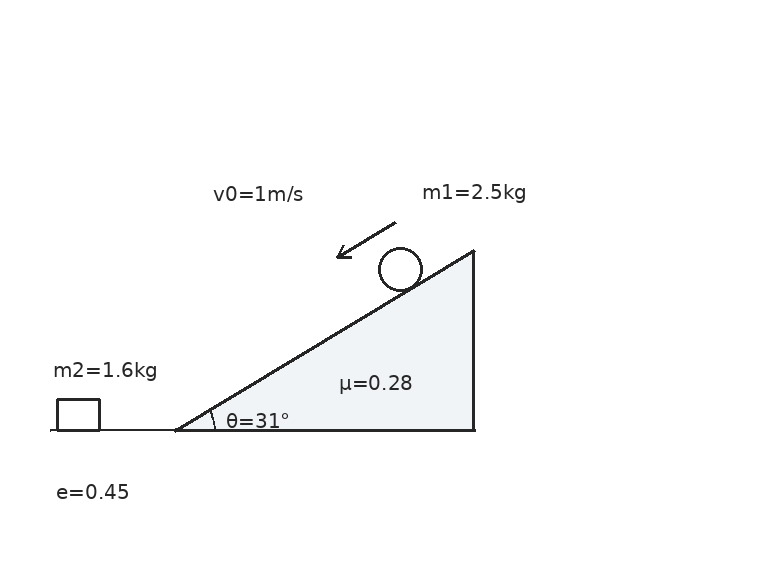ball: (376, 245, 424, 293)
block: (55, 397, 101, 432)
ramp: (173, 248, 476, 432)
